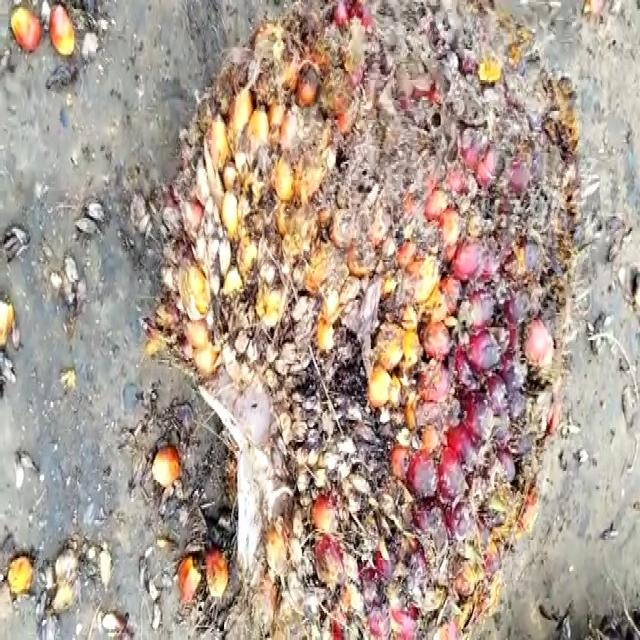palm oil: (149, 0, 572, 640)
